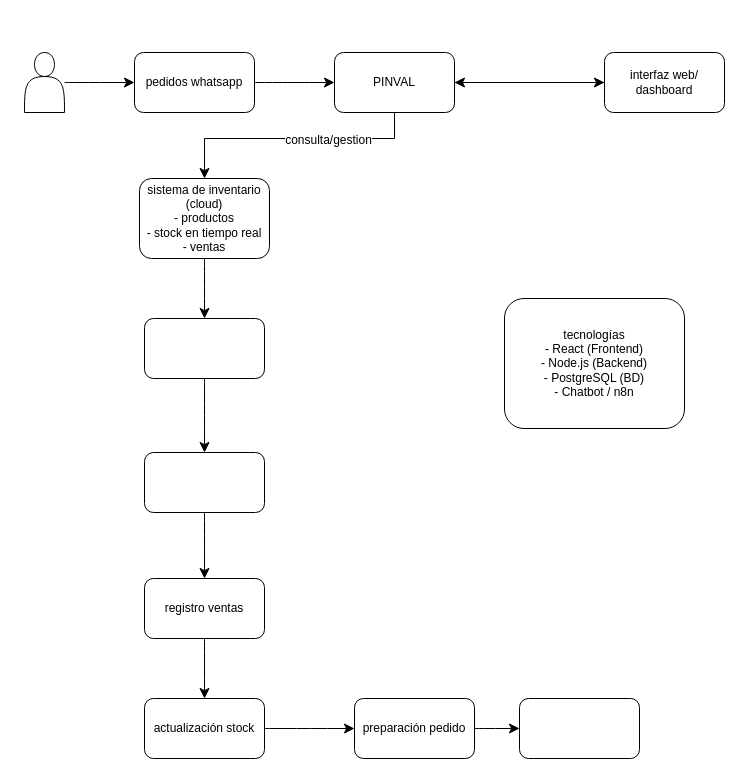
The diagram is 742 pixels wide and 776 high, and some of its shapes have lost their labels. Here are the shapes that lost their labels. From the top down, the centre of each, then its label:
At (44,82): "cliente (empresa)".
At (204,348): "validación automática stock".
At (204,482): "confirmación".
At (579,728): "entrega".
